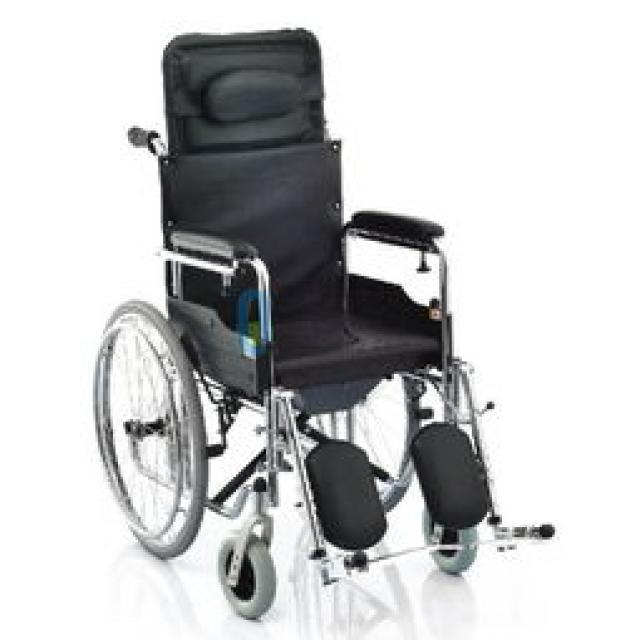wheelchair: (98, 15, 545, 618)
